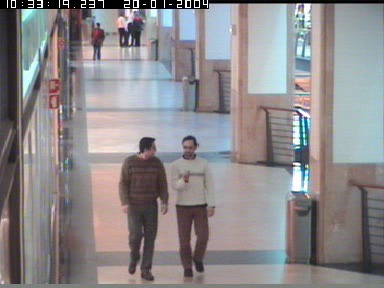person: (118, 137, 168, 281), (169, 134, 215, 277), (88, 22, 105, 62), (132, 11, 145, 47), (116, 11, 128, 47), (127, 11, 135, 46)
